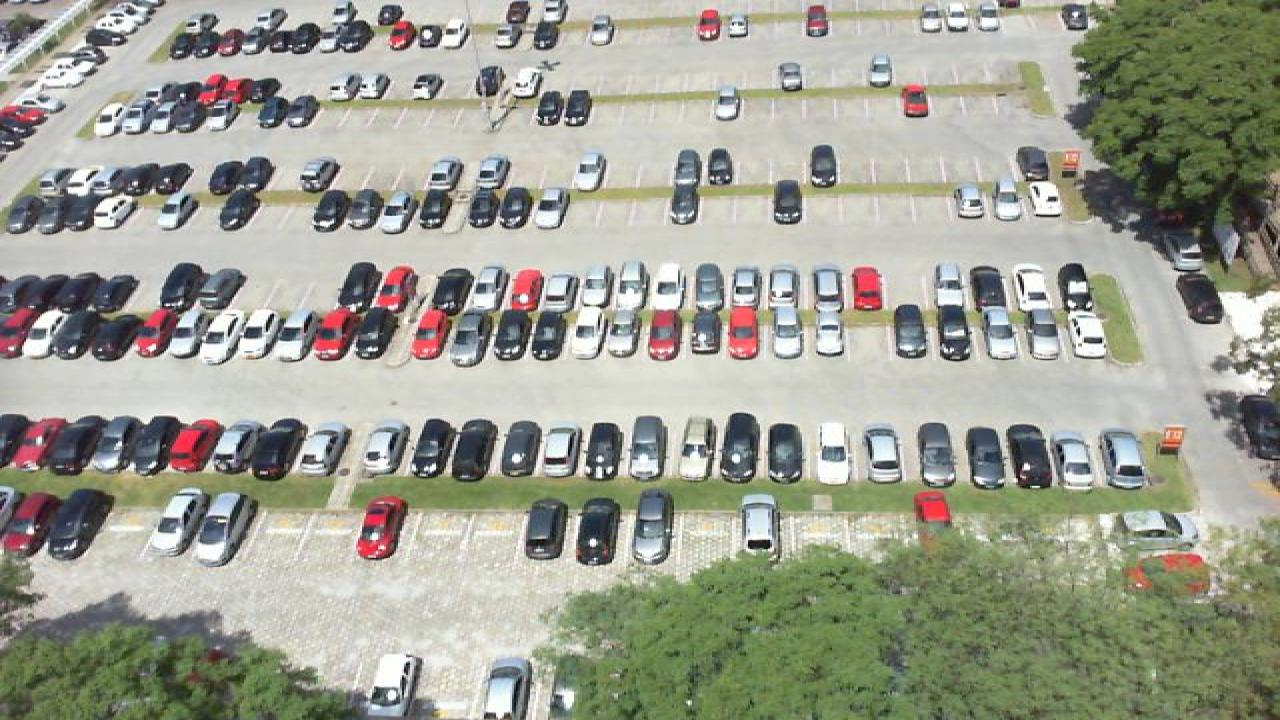Car: (44, 489, 116, 562), (200, 491, 256, 564), (368, 650, 426, 720), (350, 494, 410, 560), (478, 657, 540, 720), (0, 489, 58, 556), (1002, 422, 1056, 490), (128, 415, 188, 476), (628, 491, 676, 567), (568, 496, 620, 566), (450, 417, 504, 484), (86, 415, 146, 475), (248, 418, 306, 480), (406, 417, 462, 481), (520, 496, 572, 563), (48, 416, 108, 474), (206, 417, 264, 477), (960, 423, 1012, 488), (720, 412, 766, 485), (1052, 426, 1102, 493), (674, 415, 722, 484), (10, 417, 70, 472), (1100, 426, 1150, 491), (166, 419, 222, 477), (162, 494, 212, 558), (356, 421, 410, 480), (294, 420, 348, 478), (628, 415, 674, 483), (914, 421, 960, 488), (734, 495, 782, 559), (808, 421, 854, 487), (860, 422, 906, 488), (1118, 506, 1202, 542), (1174, 272, 1228, 328), (762, 423, 808, 485), (444, 308, 492, 367), (170, 308, 222, 362), (204, 310, 256, 364), (498, 420, 544, 481), (580, 420, 626, 480), (134, 308, 186, 361), (404, 306, 452, 361), (1022, 306, 1070, 361), (538, 422, 582, 481), (96, 312, 150, 360), (310, 308, 358, 362), (1064, 307, 1112, 361), (62, 312, 114, 360), (158, 262, 206, 313), (334, 261, 382, 311), (242, 309, 288, 361), (980, 307, 1024, 361), (724, 305, 766, 361), (682, 306, 724, 361), (276, 309, 322, 359), (194, 266, 244, 312), (428, 266, 474, 314), (32, 310, 76, 360), (890, 304, 930, 359), (526, 310, 568, 362), (812, 304, 850, 361), (566, 306, 606, 360), (604, 306, 644, 360), (768, 305, 808, 359), (644, 305, 682, 361), (936, 308, 976, 361), (910, 490, 954, 538), (374, 263, 416, 312), (350, 308, 390, 359), (1010, 261, 1052, 309), (488, 311, 528, 361), (30, 191, 74, 235), (0, 310, 42, 356), (14, 273, 60, 315), (504, 266, 546, 312), (966, 264, 1008, 310), (80, 275, 128, 315), (2, 191, 46, 234), (88, 191, 134, 232), (728, 263, 766, 312), (810, 263, 848, 312), (848, 264, 886, 313), (768, 177, 806, 226), (46, 273, 90, 315), (468, 268, 508, 314), (1052, 264, 1092, 310), (0, 414, 34, 467), (666, 179, 704, 226), (580, 260, 616, 309), (930, 260, 966, 309), (542, 266, 582, 310), (60, 192, 100, 236), (310, 189, 350, 233), (692, 261, 728, 309), (216, 189, 256, 232), (534, 187, 572, 232), (654, 261, 688, 311), (462, 185, 500, 229), (618, 264, 654, 310), (768, 264, 804, 310), (1202, 228, 1238, 274), (1026, 178, 1066, 219), (418, 186, 456, 229), (496, 188, 534, 231), (806, 143, 842, 188), (156, 191, 196, 231), (348, 190, 386, 232), (382, 188, 418, 231), (210, 156, 250, 194), (236, 156, 276, 194), (298, 156, 340, 192), (570, 151, 608, 190), (1014, 145, 1054, 182), (950, 184, 988, 222), (988, 178, 1024, 218), (704, 145, 738, 187), (672, 146, 706, 187), (710, 82, 744, 123), (0, 273, 34, 313), (122, 163, 162, 197), (562, 88, 596, 128), (156, 160, 194, 194), (426, 155, 464, 189), (472, 155, 510, 189), (94, 165, 134, 197), (254, 92, 290, 127), (508, 64, 544, 99), (176, 97, 210, 134), (532, 89, 564, 128), (898, 82, 932, 118), (284, 95, 322, 127), (92, 103, 126, 138), (120, 99, 152, 136), (800, 1, 832, 38), (66, 166, 106, 195), (488, 18, 522, 52), (148, 99, 180, 135), (586, 11, 618, 47), (690, 8, 722, 43), (40, 166, 76, 197), (330, 21, 362, 55), (532, 16, 564, 50), (1058, 1, 1092, 33), (866, 53, 896, 89), (168, 25, 198, 61), (474, 65, 506, 98), (384, 19, 416, 52), (774, 61, 808, 92), (208, 102, 240, 133), (222, 73, 252, 106), (974, 0, 1004, 33), (330, 72, 362, 102), (360, 72, 392, 102), (198, 73, 226, 106), (194, 27, 222, 60), (408, 72, 442, 99), (174, 76, 204, 106), (218, 28, 248, 58), (414, 20, 444, 50), (248, 79, 280, 107), (270, 27, 302, 55), (298, 25, 328, 54), (918, 1, 944, 34), (946, 0, 972, 33), (244, 26, 272, 56), (722, 9, 750, 39), (152, 79, 180, 108)
